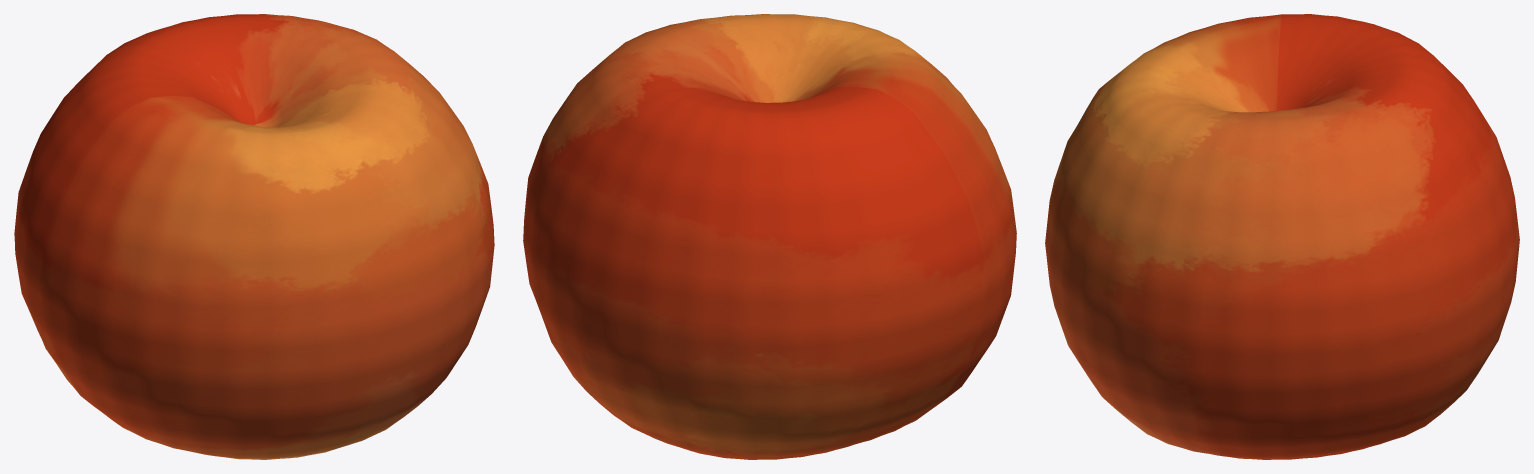
File: apple.glb
3 renders of one model, left to right at view 1: azimuth 30°, elevation 25°; view 2: azimuth 150°, elevation 25°; view 3: azimuth 270°, elevation 25°, orthographic. The views are drawn at different scales.
Parts seen in each view (by area): view 1: Sphere; view 2: Sphere; view 3: Sphere.
Part boxes in pixels (bbox=[...]): Sphere: bbox=[14, 14, 494, 459]; Sphere: bbox=[523, 14, 1016, 459]; Sphere: bbox=[1045, 14, 1519, 459].
Bounding box in the file's own units: 1.96 × 1.54 × 1.88.
Materials: 1 (1 with a texture image).
